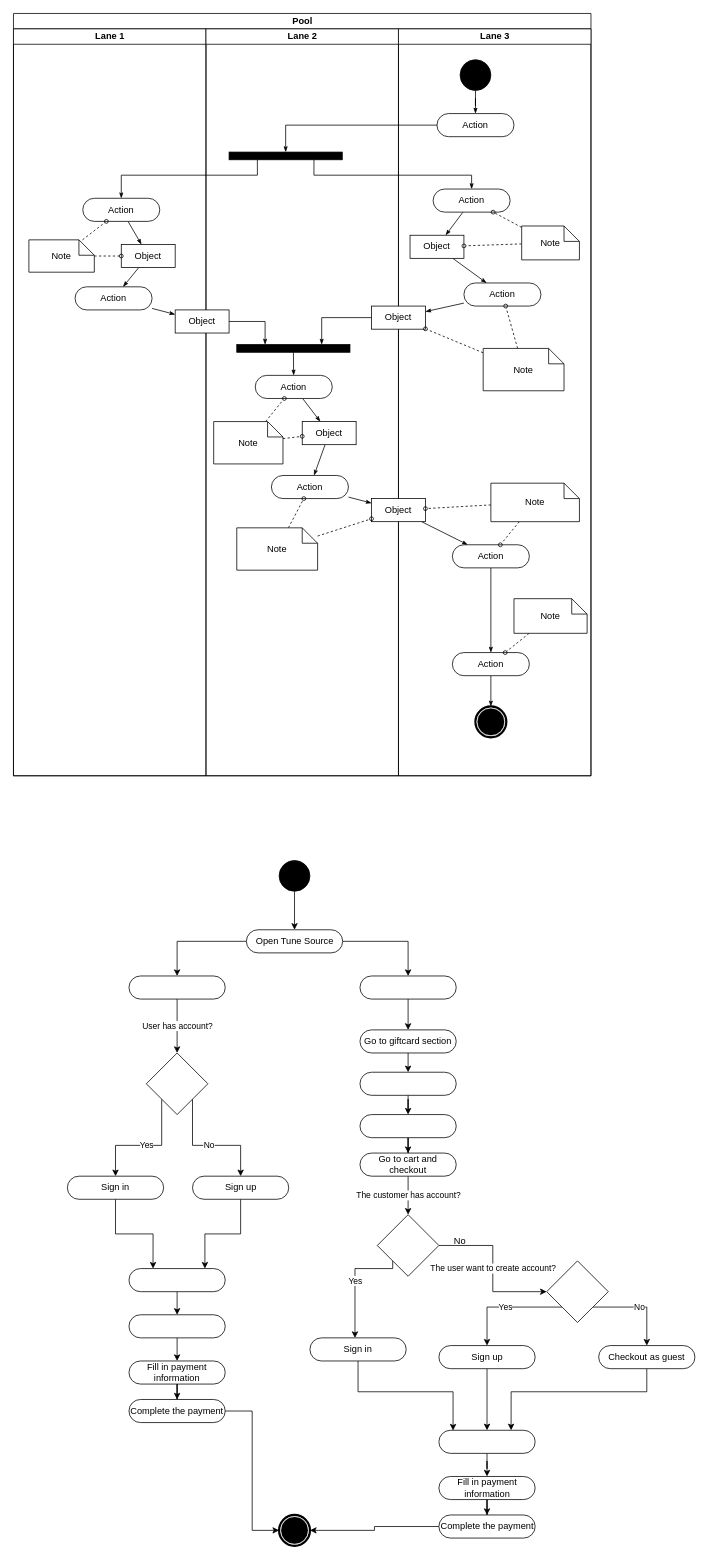
The diagram is 708 pixels wide and 1559 high, and some of its shapes have lost their labels. The shapes that lost their labels are listed below. From the top down, each one's centre as x and y in pixels, then its label:
At (176,987): "Subscribe to streaming service".
At (407,987): "Purchase giftcard".
At (407,1083): "Browse for giftcard".
At (407,1126): "Add giftcard to cart".
At (176,1280): "Go to subscription plan".
At (176,1326): "Choose a plan".
At (486,1441): "Choose a payment method".
